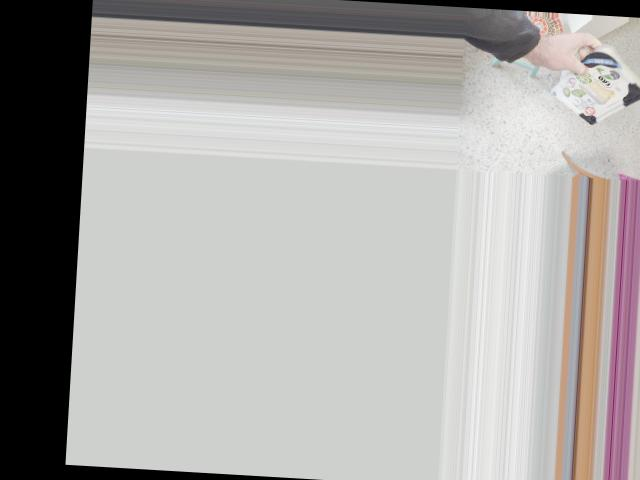cheese: (563, 26, 640, 136)
